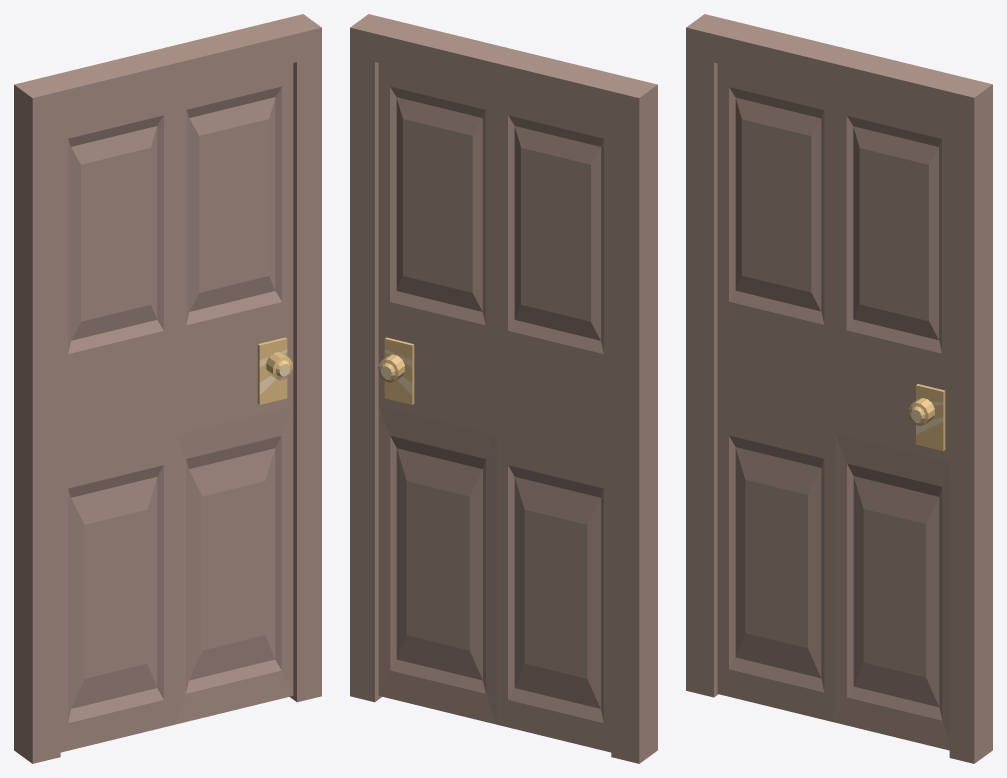
The model's file is door-classic.glb.
The picture shows the model from 3 angles, left to right: view 1: azimuth 30°, elevation 25°; view 2: azimuth 150°, elevation 25°; view 3: azimuth 330°, elevation 25°; orthographic projection.
Visible parts, largest first — view 1: leaf, frame; view 2: leaf, frame; view 3: leaf, frame.
Part boxes in pixels (<box>): leaf: <box>60,63,293,752</box>; frame: <box>14,14,321,763</box>; leaf: <box>378,63,611,752</box>; frame: <box>350,14,657,763</box>; leaf: <box>717,63,949,750</box>; frame: <box>686,14,992,763</box>.
Size of the model in its own units: 0.9599 by 2.12 by 0.2333.
